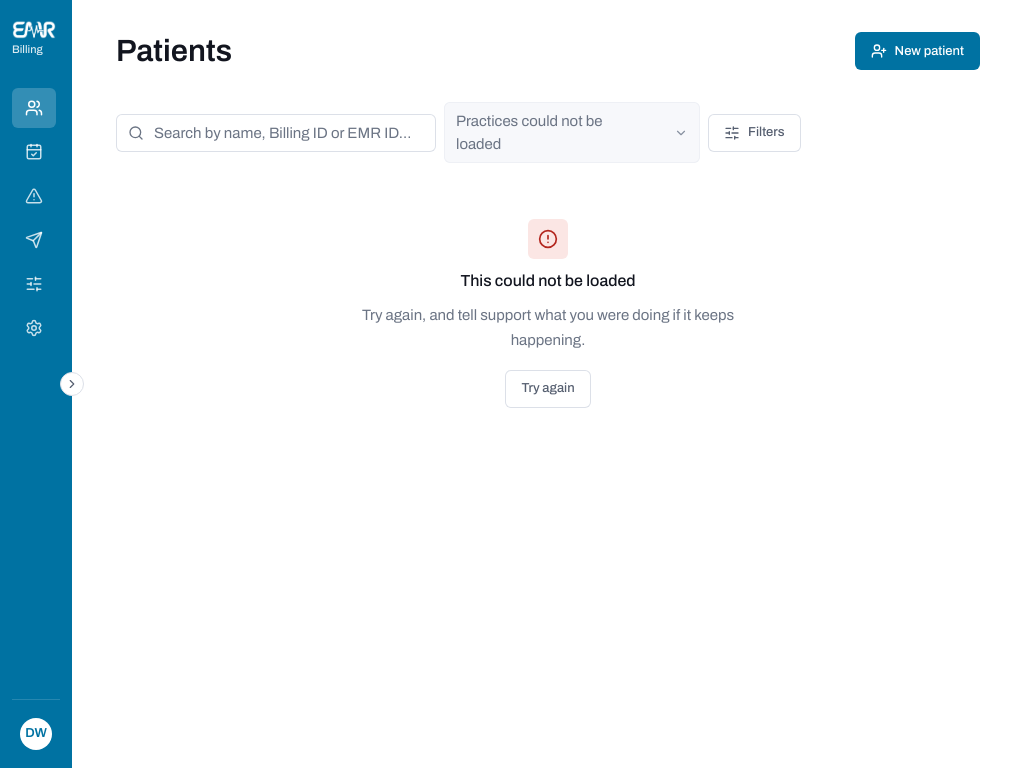
Test case: account menu › opens a menu with who is signed in, Change password and Sign out
The width and height of the screenshot is (1024, 768).
Click the button with aria-label "Account: Dana Whitfield" at {"x": 36, "y": 734}, box [12, 712, 60, 756]
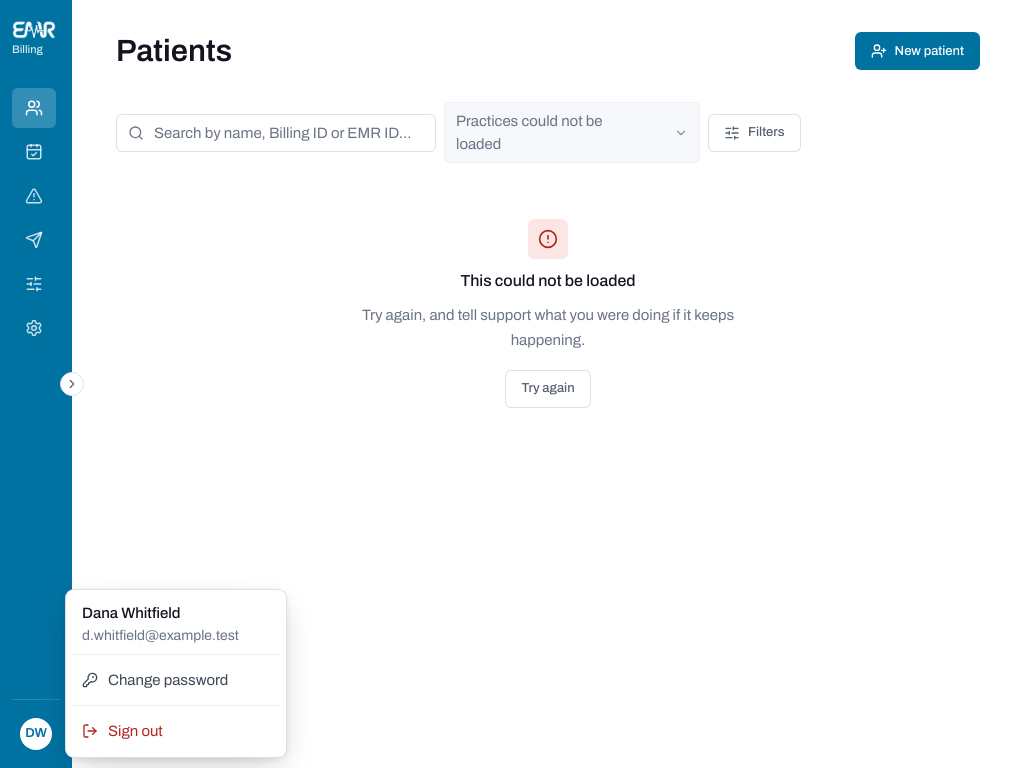
Expected: the menu shows "Dana Whitfield", [82, 605, 180, 621]
Expected: the menu shows "d.whitfield@example.test", [82, 628, 239, 642]
Expected: the menu item "Change password" is shown, [82, 672, 228, 688]
